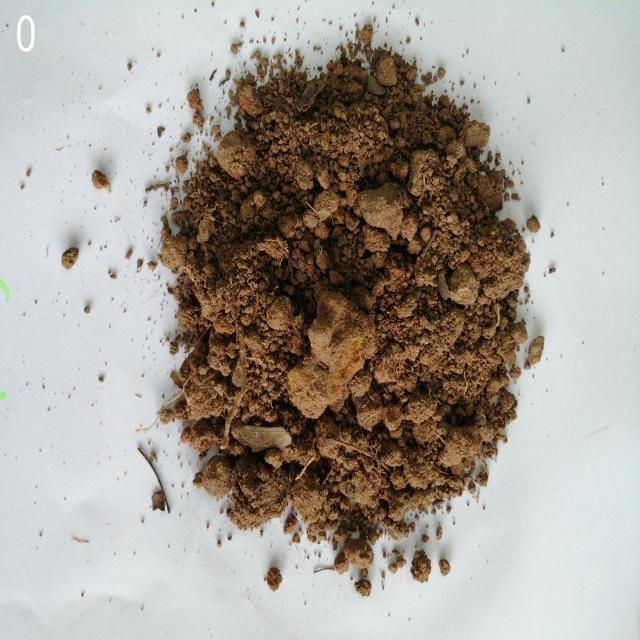soil: (241, 124, 468, 474)
